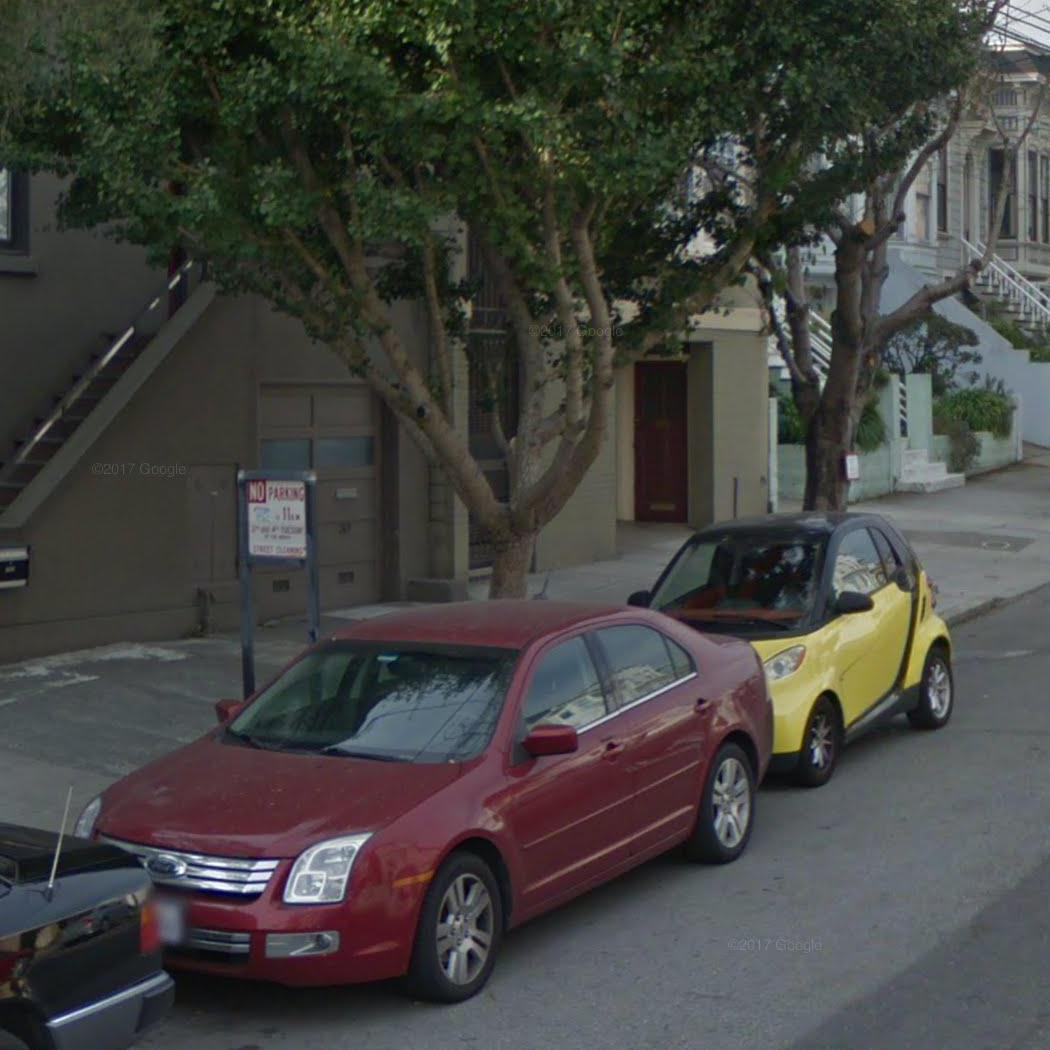No Parking: (242, 475, 311, 561)
